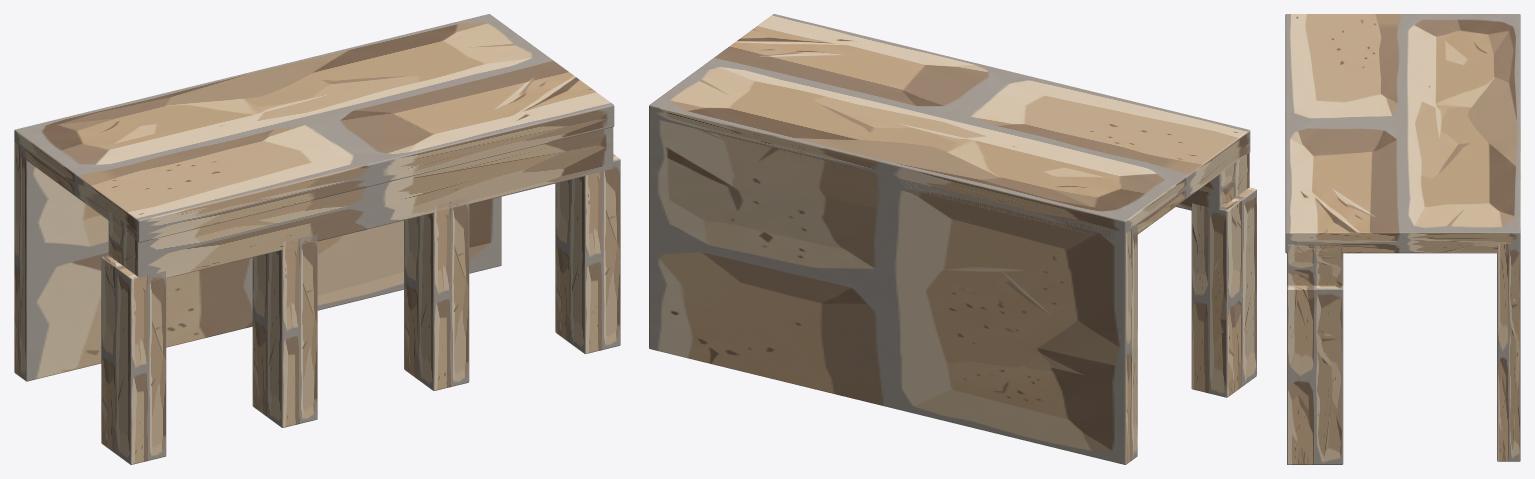
Rendered from greek_house_arcade_LOD2.glb.
3 renders of one model, left to right at view 1: azimuth 30°, elevation 25°; view 2: azimuth 150°, elevation 25°; view 3: azimuth 270°, elevation 25°, orthographic. The views are drawn at different scales.
Visible parts, largest first — view 1: LOD_Roof.001, LOD_Back.001, LOD_Upper.001, LOD_Pier.004, LOD_Pier.005, LOD_Pier.006, LOD_Pier.007; view 2: LOD_Back.001, LOD_Roof.001, LOD_Pier.004, LOD_Upper.001; view 3: LOD_Roof.001, LOD_Pier.007, LOD_Back.001, LOD_Upper.001.
Boxes of the visible parts, left/top/right/bottom form: LOD_Roof.001: left=14, top=14, right=614, bottom=242; LOD_Back.001: left=14, top=142, right=501, bottom=381; LOD_Upper.001: left=108, top=127, right=613, bottom=282; LOD_Pier.004: left=101, top=255, right=166, bottom=464; LOD_Pier.005: left=252, top=234, right=317, bottom=427; LOD_Pier.006: left=404, top=197, right=469, bottom=390; LOD_Pier.007: left=555, top=154, right=620, bottom=354; LOD_Back.001: left=649, top=117, right=1137, bottom=464; LOD_Roof.001: left=649, top=14, right=1250, bottom=241; LOD_Pier.004: left=1191, top=187, right=1256, bottom=397; LOD_Upper.001: left=1176, top=152, right=1249, bottom=214; LOD_Roof.001: left=1285, top=14, right=1520, bottom=253; LOD_Pier.007: left=1287, top=285, right=1343, bottom=464; LOD_Back.001: left=1497, top=244, right=1520, bottom=461; LOD_Upper.001: left=1287, top=244, right=1343, bottom=285.
Bounding box in the file's own units: 6.8 × 3.23 × 3.
1 material, 1 textured.
